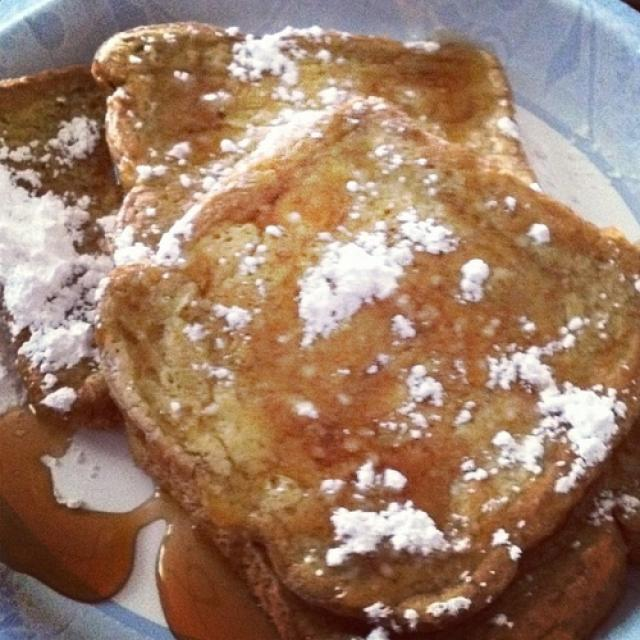面包点心: (0, 3, 635, 631)
